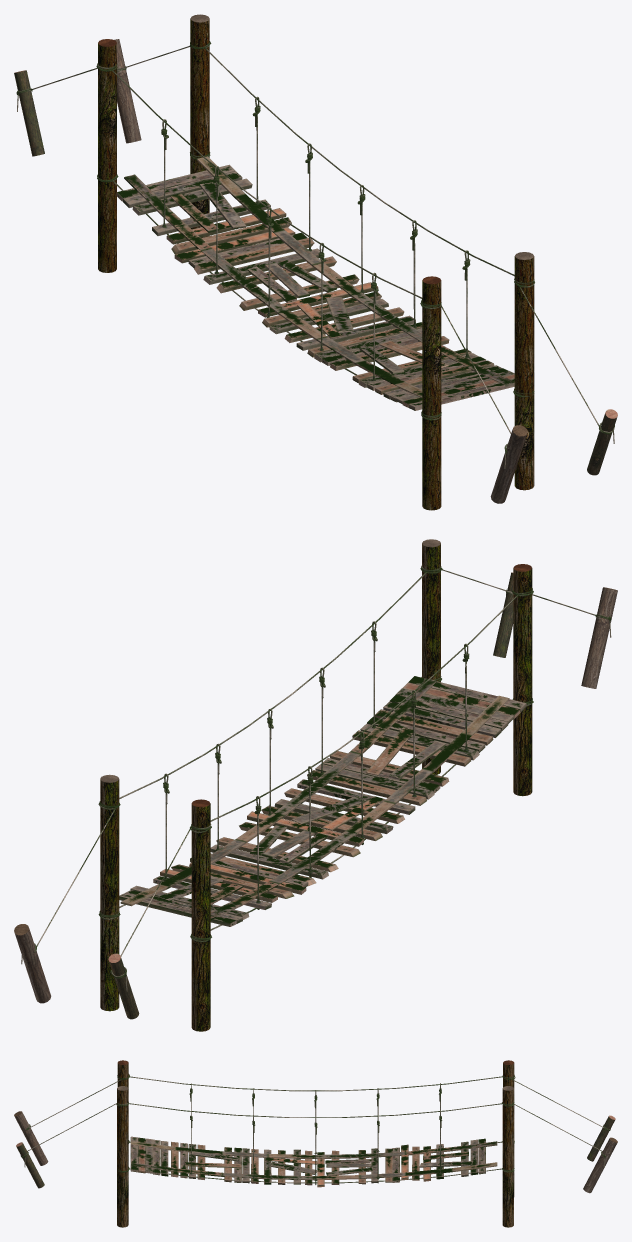
The model's file is bridge.fbx.
The picture shows the model from 3 angles, top to bottom: view 1: azimuth 30°, elevation 25°; view 2: azimuth 150°, elevation 25°; view 3: azimuth 270°, elevation 25°; orthographic projection. The views are drawn at different scales.
Parts seen in each view (by area): view 1: Cylinder.003; view 2: Cylinder.003; view 3: Cylinder.003.
Boxes of the visible parts, x1,y1,x2,y2 form: Cylinder.003: (14,14,617,510); Cylinder.003: (14,539,617,1031); Cylinder.003: (14,1060,617,1227).
Size of the model in its own units: 280 by 485 by 1939.
